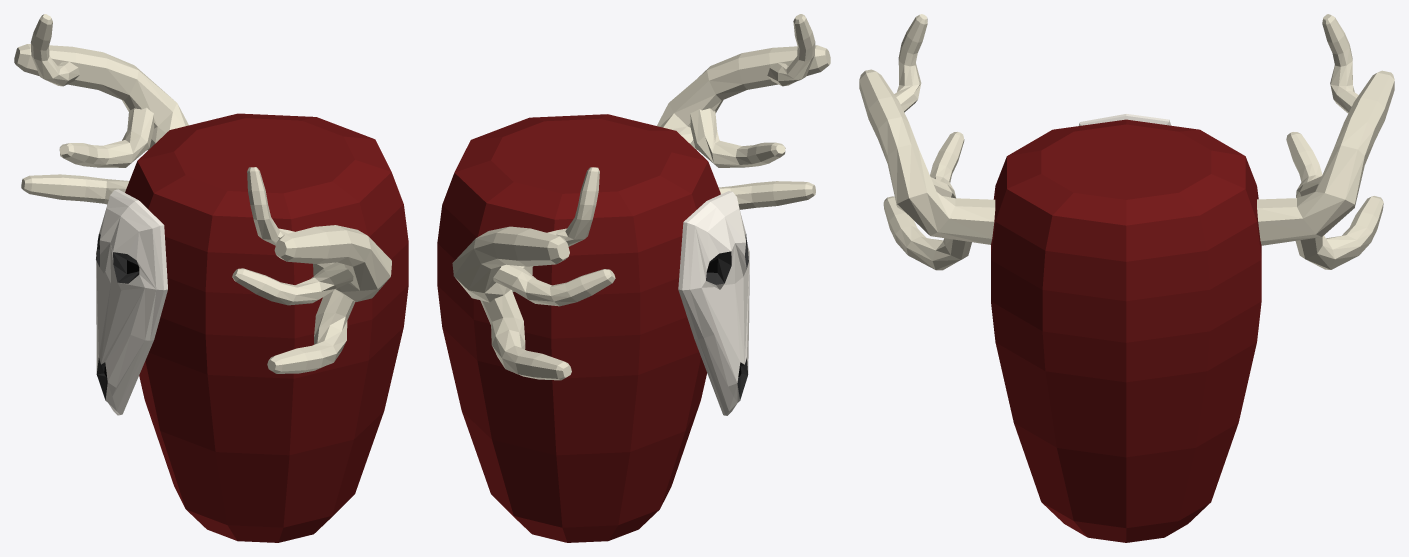
Rendered from carneWendingo.fbx.
3 views of the same model, side by side, from view 1: azimuth 30°, elevation 25°; view 2: azimuth 150°, elevation 25°; view 3: azimuth 270°, elevation 25° (orthographic).
Parts seen in each view (by area): view 1: Cylinder002; view 2: Cylinder002; view 3: Cylinder002.
Boxes of the visible parts, box(x1,y1,x2,y2) form: Cylinder002: box(14, 14, 408, 542); Cylinder002: box(437, 14, 830, 542); Cylinder002: box(859, 14, 1394, 542).
Size of the model in its own units: 0.7151 by 1.07 by 1.17.
